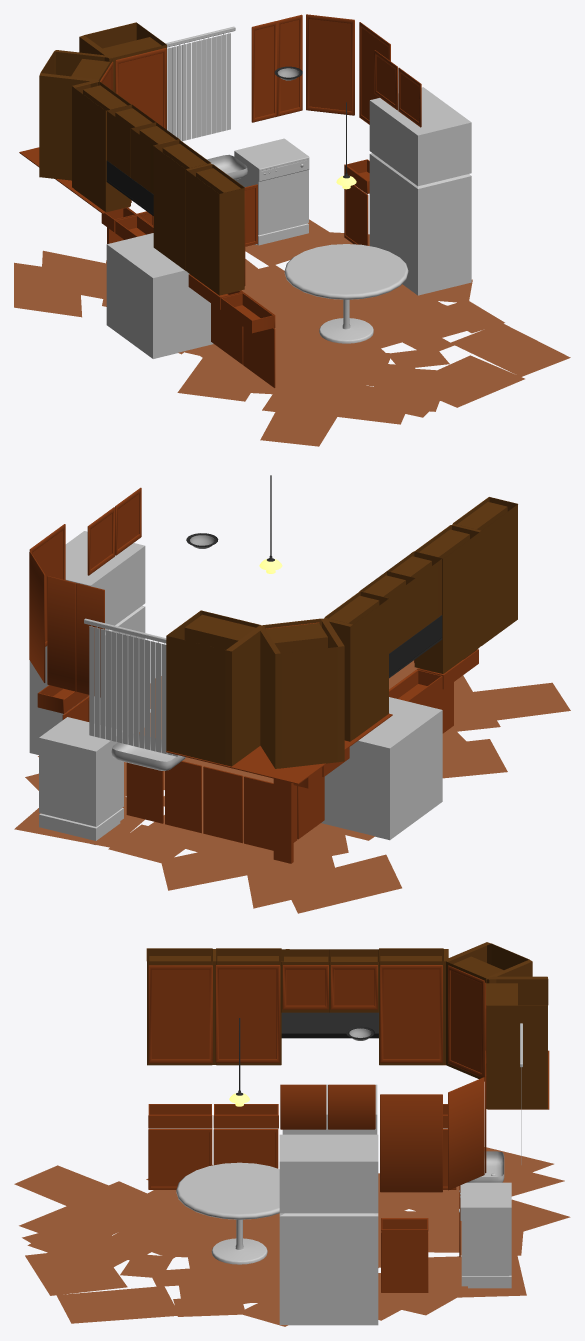
The model's file is FloorPlan19_Backup.fbx.
3 renders of one model, top to bottom at view 1: azimuth 30°, elevation 25°; view 2: azimuth 150°, elevation 25°; view 3: azimuth 270°, elevation 25°, orthographic. The views are drawn at different scales.
Parts seen in each view (by area): view 1: Cube.409, Decals.022, Cube.429, Decals.023, Cube.433, Decals.021, Cylinder.050, Cube.438, Cube.407, Cube.422, Cube.428, Cube.426 (+14 smaller); view 2: Cube.409, Decals.021, Cube.433, Cube.438, Cube.407, Cube.429, Decals.023, Cube.427, Cube.434, Cube.401, Cube.426, Cube.435 (+14 smaller); view 3: Cube.429, Cube.409, Decals.022, Decals.023, Decals.021, Cube.419, Cube.418, Cylinder.050, Cube.425, Cube.408, Cube.407, Cube.422 (+14 smaller).
Boxes of the visible parts, x1=… form: Cube.409: x1=19, y1=22, x2=244, y2=295; Decals.022: x1=250, y1=231, x2=570, y2=417; Cube.429: x1=369, y1=87, x2=471, y2=295; Decals.023: x1=177, y1=339, x2=450, y2=446; Cube.433: x1=106, y1=233, x2=213, y2=358; Decals.021: x1=14, y1=219, x2=446, y2=361; Cylinder.050: x1=284, y1=244, x2=408, y2=343; Cube.438: x1=165, y1=26, x2=235, y2=141; Cube.407: x1=234, y1=138, x2=309, y2=245; Cube.422: x1=306, y1=14, x2=354, y2=115; Cube.428: x1=115, y1=48, x2=166, y2=129; Cube.426: x1=251, y1=21, x2=277, y2=122; Cube.409: x1=166, y1=497, x2=517, y2=784; Decals.021: x1=14, y1=777, x2=401, y2=913; Cube.433: x1=321, y1=697, x2=442, y2=840; Cube.438: x1=84, y1=618, x2=177, y2=756; Cube.407: x1=39, y1=717, x2=123, y2=844; Cube.429: x1=29, y1=531, x2=145, y2=754; Decals.023: x1=389, y1=661, x2=570, y2=778; Cube.427: x1=47, y1=576, x2=76, y2=691; Cube.434: x1=203, y1=766, x2=243, y2=843; Cube.401: x1=165, y1=761, x2=201, y2=833; Cube.426: x1=76, y1=583, x2=104, y2=697; Cube.435: x1=244, y1=776, x2=273, y2=850; Cube.429: x1=279, y1=1134, x2=378, y2=1325; Cube.409: x1=146, y1=942, x2=549, y2=1109; Decals.022: x1=22, y1=1219, x2=472, y2=1326; Decals.023: x1=14, y1=1165, x2=279, y2=1271; Decals.021: x1=187, y1=1147, x2=570, y2=1303; Cube.419: x1=148, y1=965, x2=212, y2=1063; Cube.418: x1=215, y1=965, x2=280, y2=1062; Cylinder.050: x1=176, y1=1162, x2=279, y2=1264; Cube.425: x1=380, y1=1094, x2=442, y2=1192; Cube.408: x1=380, y1=965, x2=442, y2=1062; Cube.407: x1=459, y1=1182, x2=511, y2=1288; Cube.422: x1=448, y1=1077, x2=484, y2=1190.
Size of the model in its own units: 433 by 259 by 548.
